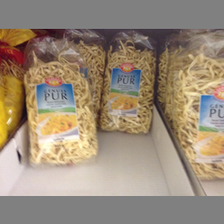pasta: (23, 40, 97, 168), (177, 33, 224, 182), (99, 30, 157, 134)
